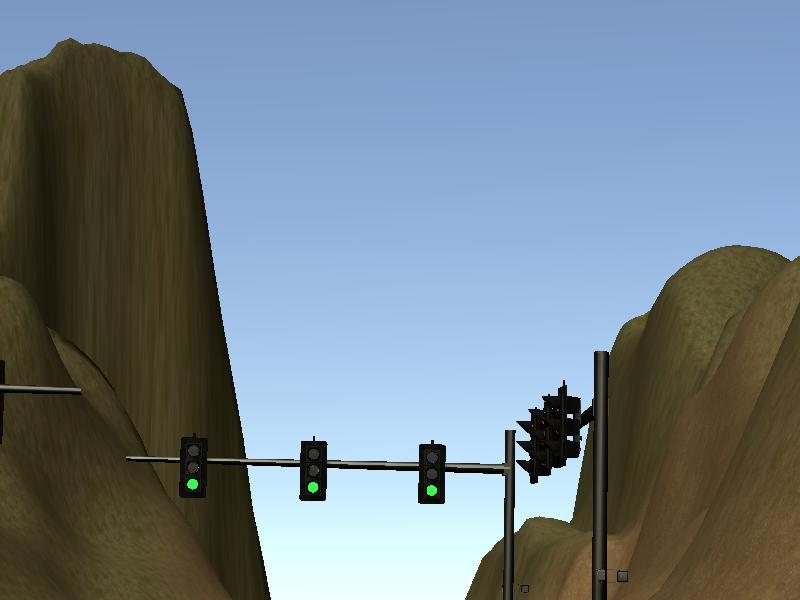green: (178, 435, 207, 500), (299, 438, 328, 503), (418, 441, 447, 506)
